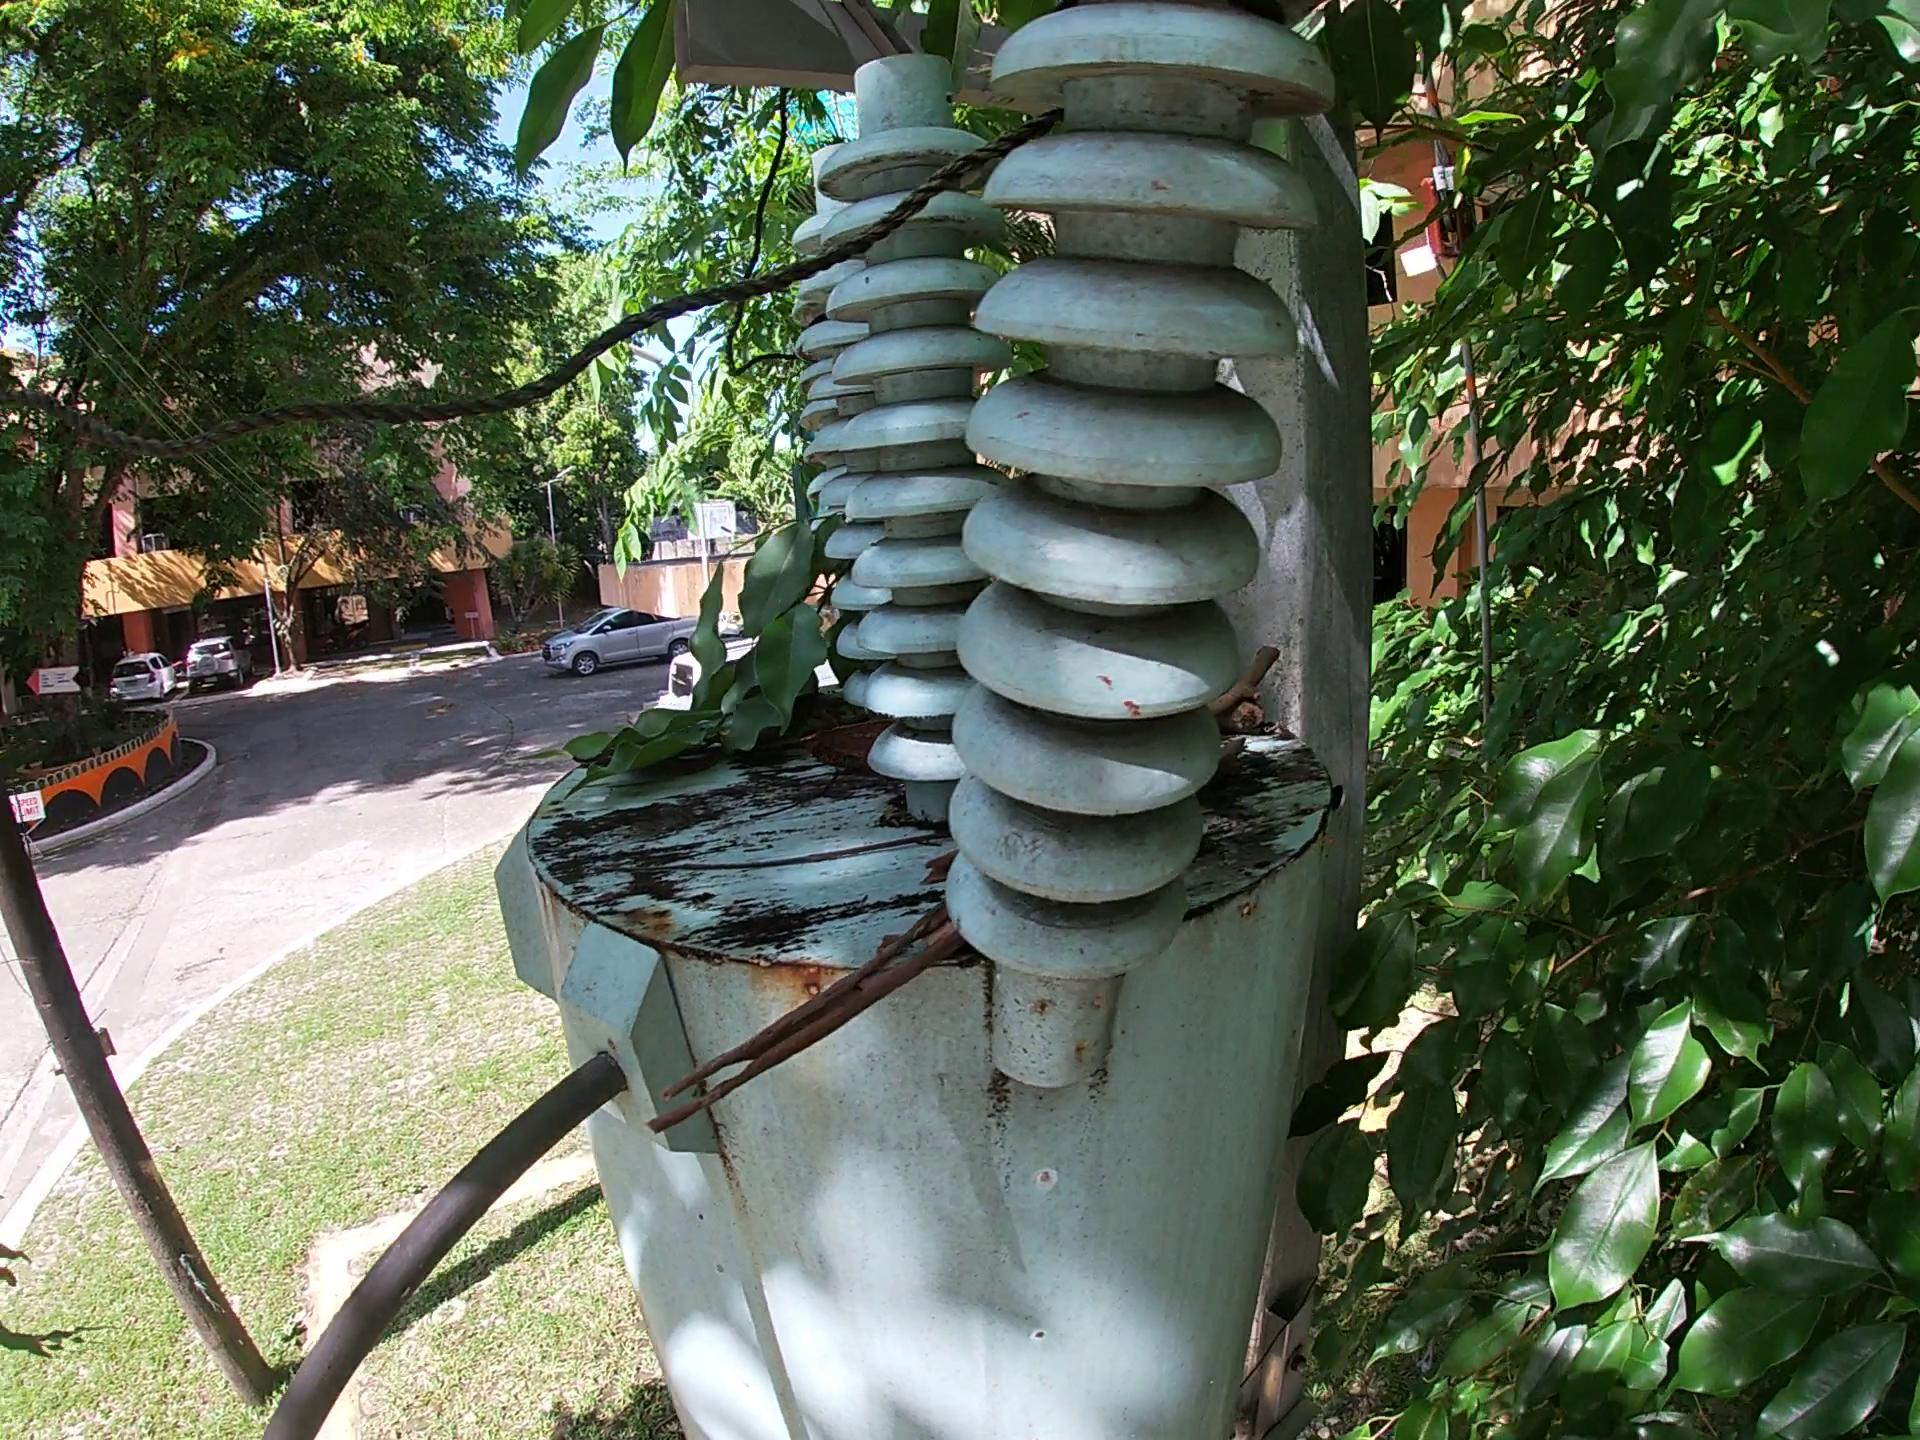branch with leaves: (544, 501, 892, 802), (639, 886, 980, 1150)
mahogany fruit: (816, 718, 915, 784)
tree branch: (638, 824, 931, 870), (1205, 647, 1311, 725)
